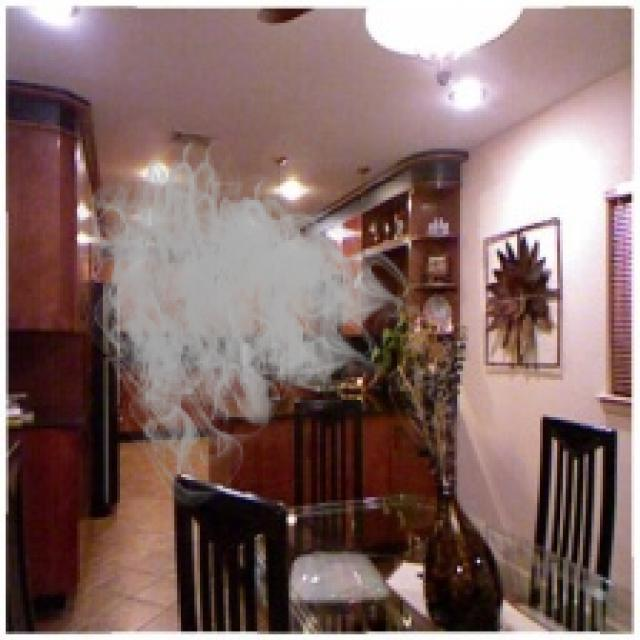Smoke: (68, 126, 420, 512)
